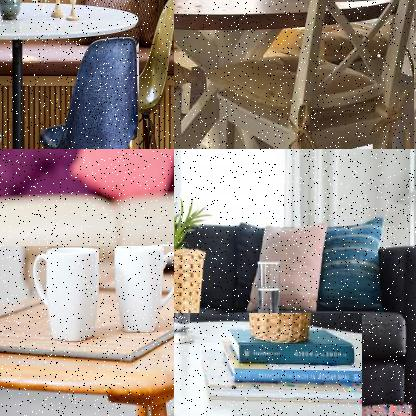table: (174, 0, 416, 148), (0, 246, 173, 415), (0, 0, 141, 148), (174, 313, 364, 415)
